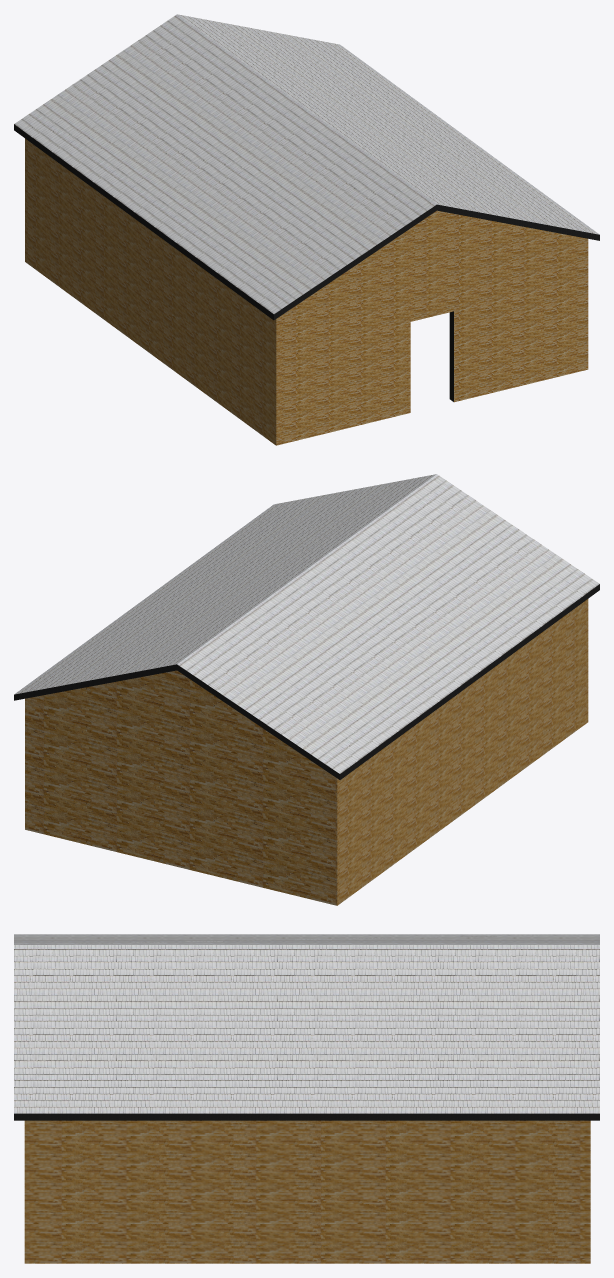
File: housetest.dae
3 views of the same model, one above another, from view 1: azimuth 30°, elevation 25°; view 2: azimuth 150°, elevation 25°; view 3: azimuth 270°, elevation 25° (orthographic). The views are drawn at different scales.
Parts seen in each view (by area): view 1: SketchUp (×3), group_0; view 2: SketchUp (×3), group_1; view 3: SketchUp (×3).
Boxes of the visible parts, left/top/right/bottom form: SketchUp (×3): left=14, top=14, right=599, bottom=445; group_0: left=276, top=210, right=588, bottom=445; SketchUp (×3): left=14, top=474, right=599, bottom=905; group_1: left=25, top=670, right=337, bottom=905; SketchUp (×3): left=14, top=934, right=599, bottom=1263.
Size of the model in its own units: 360 by 497 by 218.
5 materials, 4 textured.
